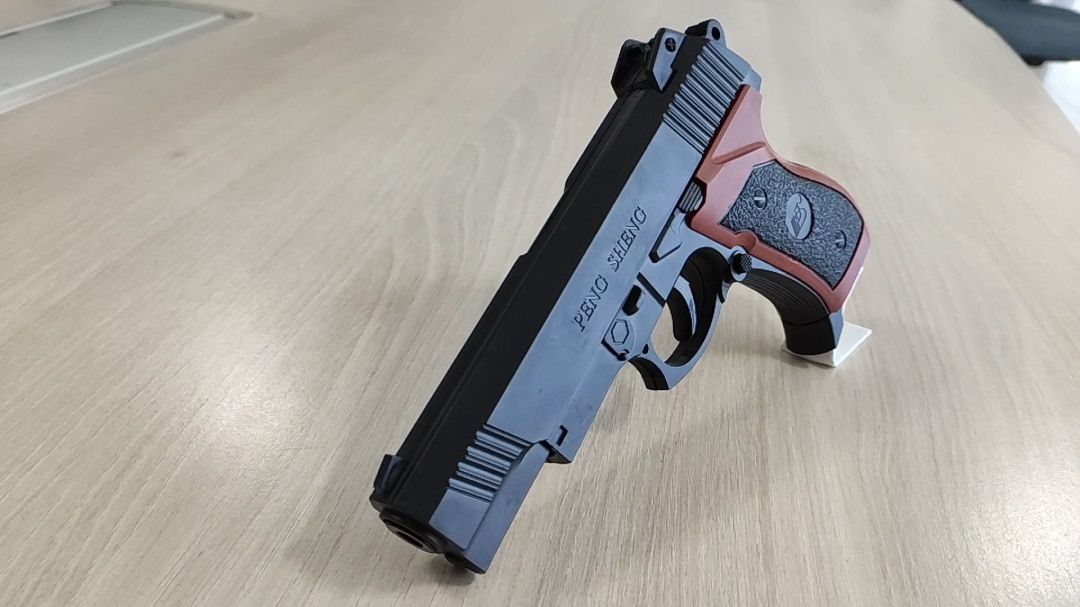gun: (368, 15, 875, 580)
